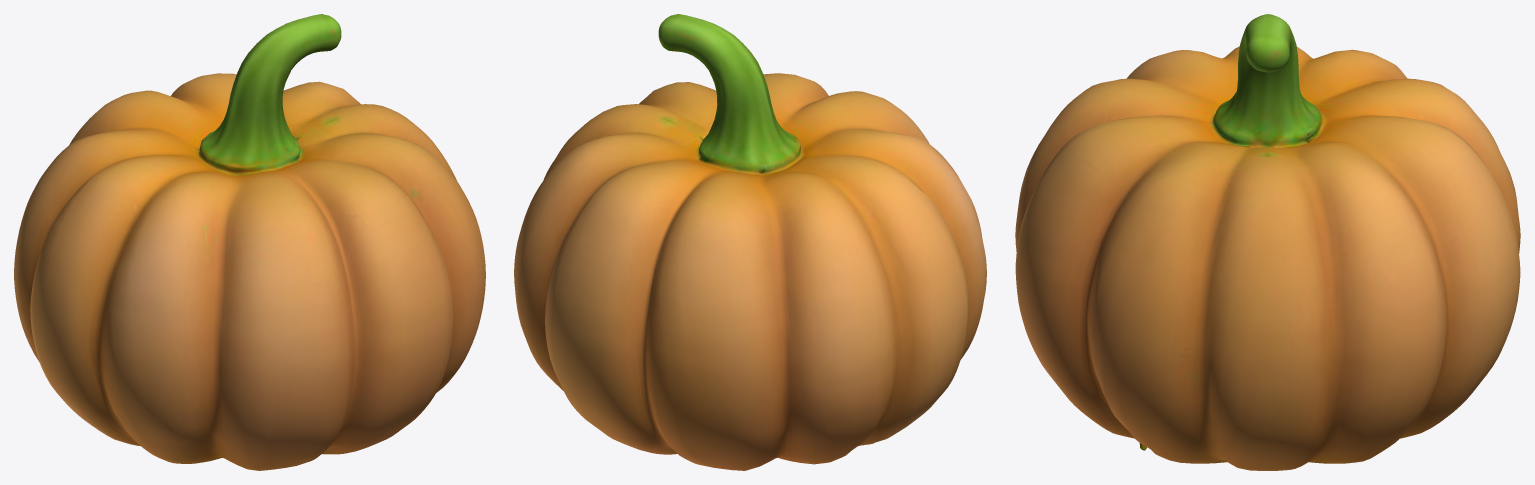
File: pumpkin.glb
The picture shows the model from 3 angles, left to right: view 1: azimuth 30°, elevation 25°; view 2: azimuth 150°, elevation 25°; view 3: azimuth 270°, elevation 25°; orthographic projection. The views are drawn at different scales.
Visible parts, largest first — view 1: model; view 2: model; view 3: model.
Part boxes in pixels (left/top/right/bottom): model: left=14, top=14, right=485, bottom=470; model: left=514, top=14, right=986, bottom=470; model: left=1015, top=14, right=1520, bottom=470.
Size of the model in its own units: 1.9 by 1.73 by 1.85.
Materials: 1 (1 with a texture image).
